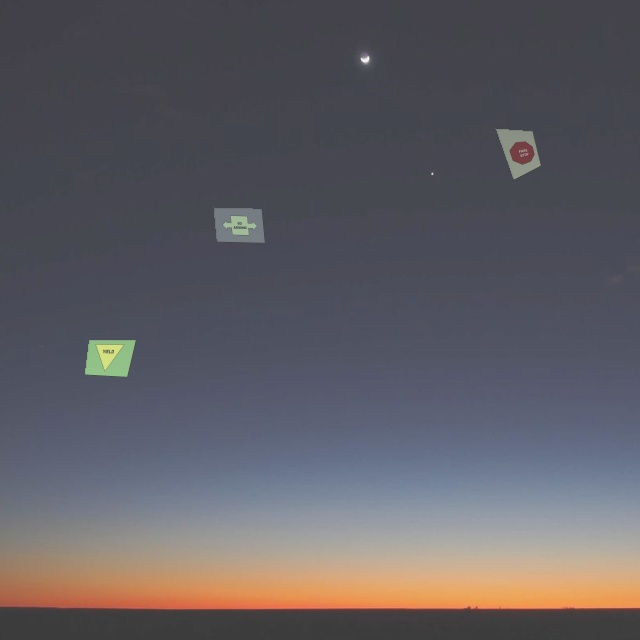FAKE_STOP: (507, 139, 537, 168)
GO_AROUND: (221, 215, 258, 235)
YIELD: (92, 344, 124, 372)
